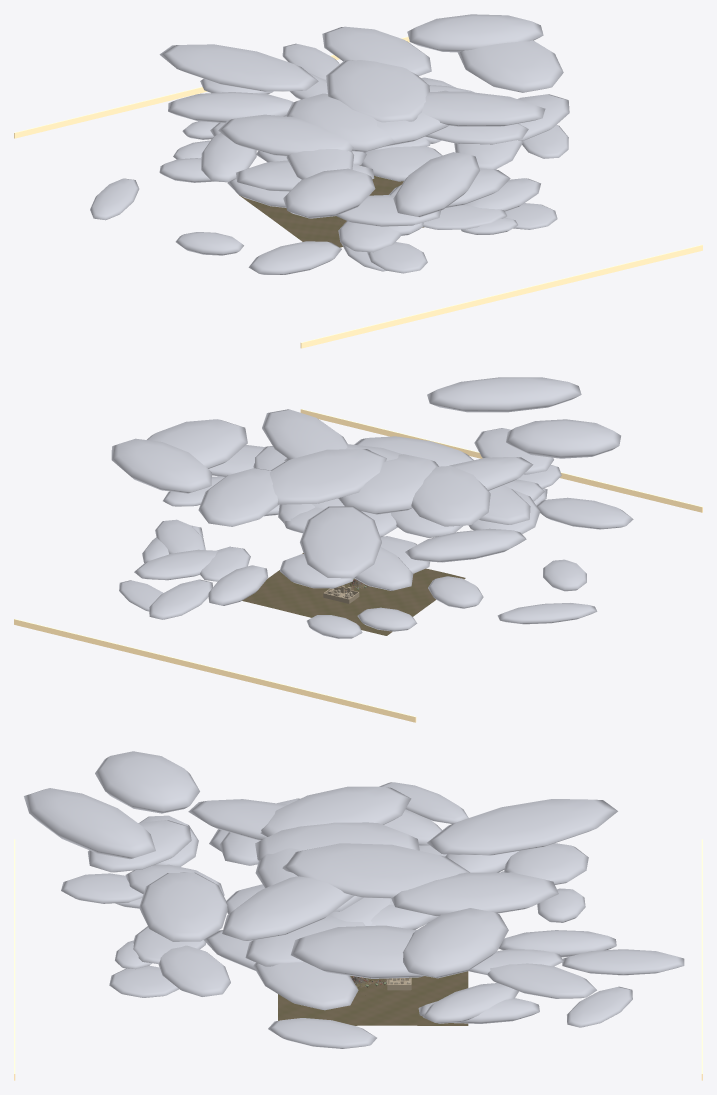
The model's file is golgotha.glb.
The picture shows the model from 3 angles, top to bottom: view 1: azimuth 30°, elevation 25°; view 2: azimuth 150°, elevation 25°; view 3: azimuth 270°, elevation 25°; orthographic projection. The views are drawn at different scales.
Parts seen in each view (by area): view 1: Clouds, LightBreak-1, Terrain, LightBreak+1; view 2: Clouds, Terrain, LightBreak+1, LightBreak-1; view 3: Clouds, Terrain.
Boxes of the visible parts, x1=… form: Clouds: x1=90, y1=14, x2=569, y2=274; LightBreak-1: x1=300, y1=244, x2=702, y2=348; Terrain: x1=239, y1=165, x2=423, y2=247; LightBreak+1: x1=14, y1=36, x2=409, y2=138; Clouds: x1=111, y1=377, x2=633, y2=638; Terrain: x1=242, y1=553, x2=465, y2=635; LightBreak+1: x1=14, y1=619, x2=416, y2=722; LightBreak-1: x1=300, y1=409, x2=702, y2=512; Clouds: x1=24, y1=751, x2=684, y2=1048; Terrain: x1=278, y1=971, x2=468, y2=1025.
Bounding box in the file's own units: 883 × 229 × 942.
